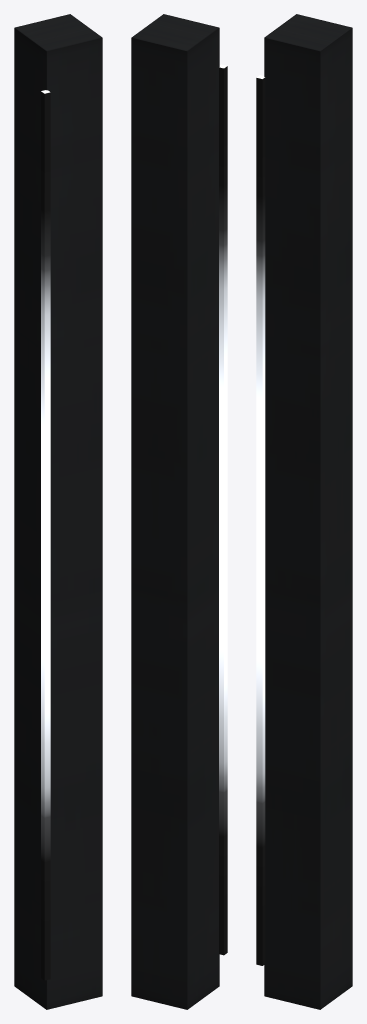
Rendered from SM_INFD_Corner_CER.fbx.
3 renders of one model, left to right at view 1: azimuth 30°, elevation 25°; view 2: azimuth 150°, elevation 25°; view 3: azimuth 330°, elevation 25°, orthographic.
Visible parts, largest first — view 1: SM_INFD_Corner_CER; view 2: SM_INFD_Corner_CER; view 3: SM_INFD_Corner_CER.
Part boxes in pixels (left/top/right/bottom): SM_INFD_Corner_CER: left=14, top=14, right=102, bottom=1009; SM_INFD_Corner_CER: left=131, top=14, right=227, bottom=1009; SM_INFD_Corner_CER: left=256, top=14, right=352, bottom=1009.
Size of the model in its own units: 0.98 by 14.7 by 0.98.
